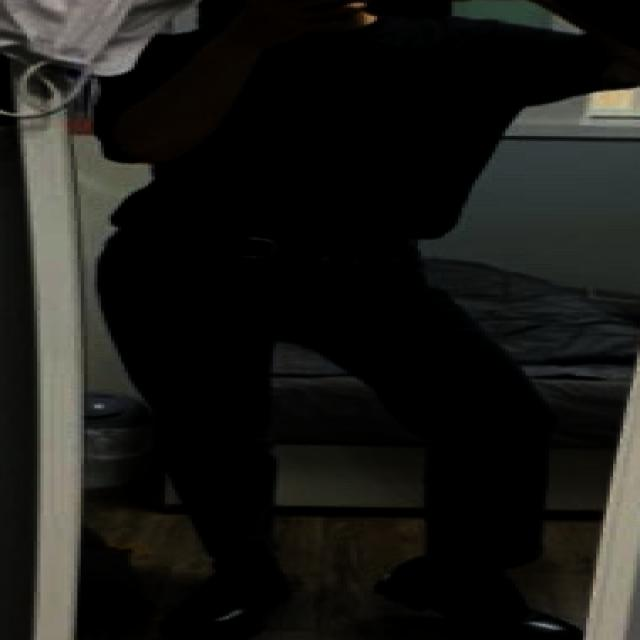denimpants: (96, 228, 555, 574)
shortsleeve: (85, 5, 608, 244)
